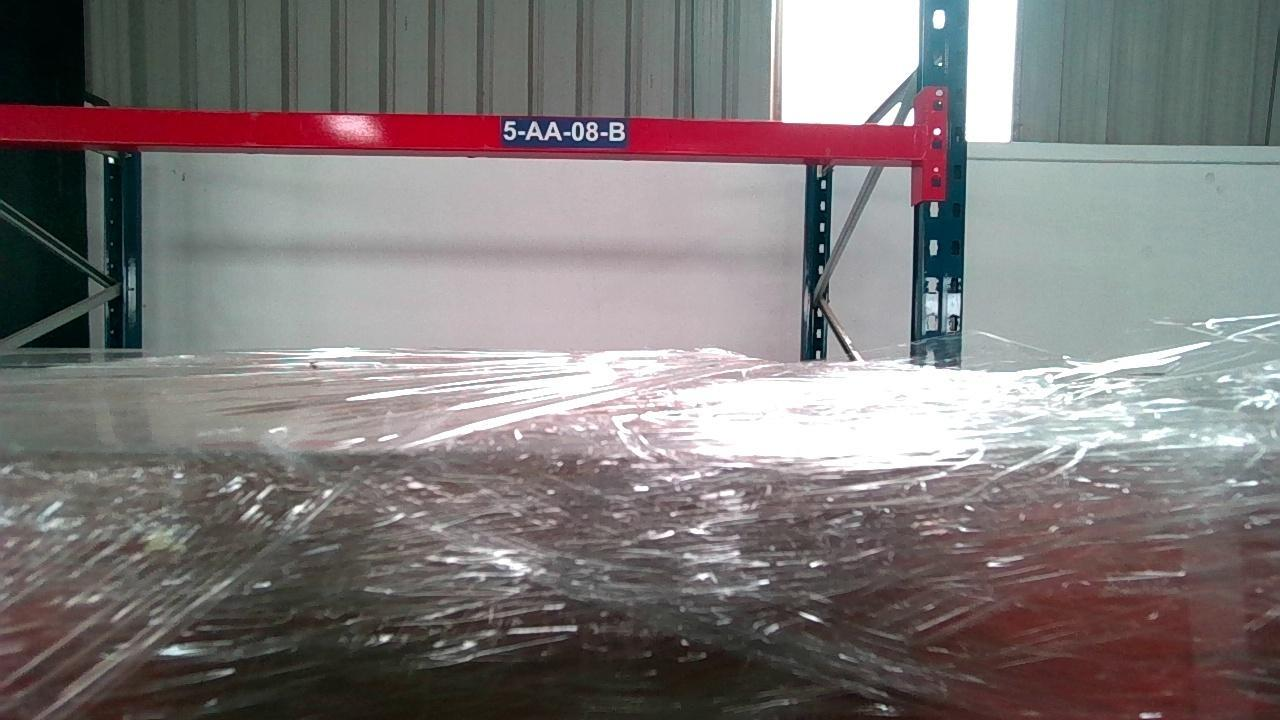h_rack: (0, 105, 923, 160)
